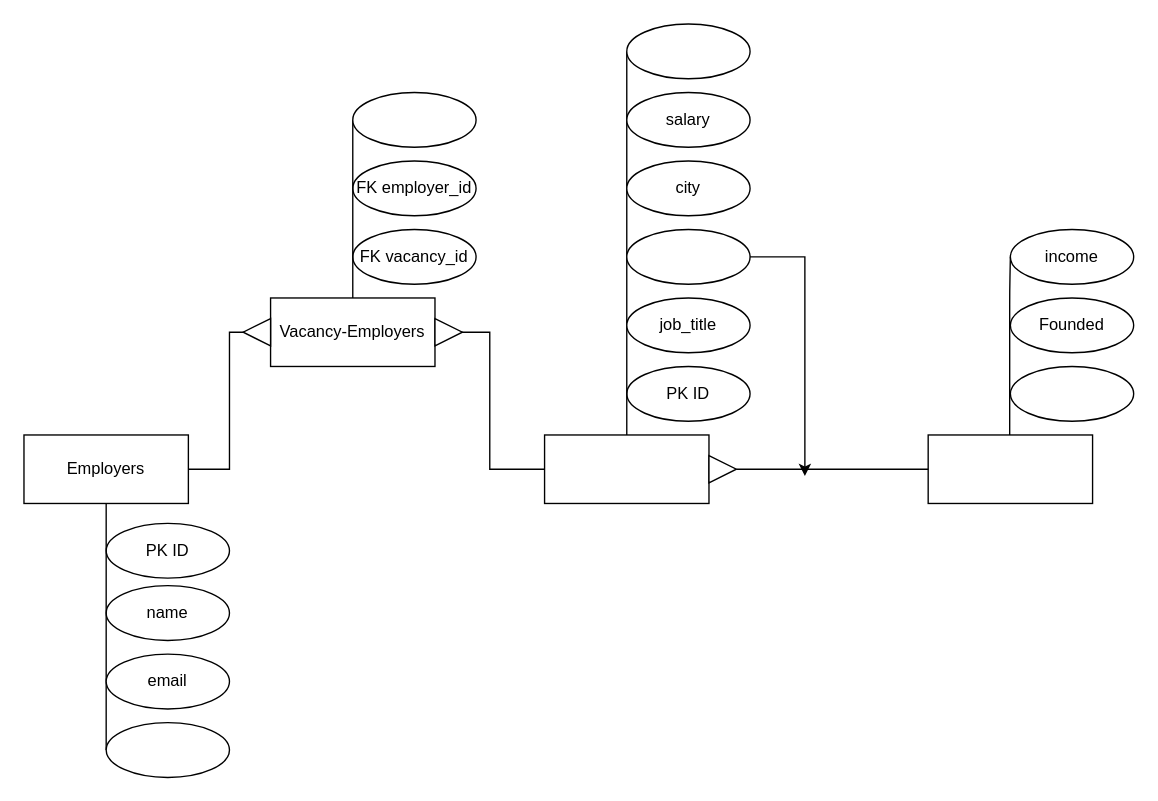
This 1158x801 diagram has some shape labels left out. The shapes that lost their labels are listed below. From the top down, each one's centre as x and y in pixels, then its label:
At (x=687, y=51): "days".
At (x=413, y=119): "agreed_salary".
At (x=687, y=256): "company".
At (x=1071, y=393): "PK company_name".
At (x=626, y=468): "Vacancies".
At (x=1010, y=468): "Companies".
At (x=167, y=749): "experience".
